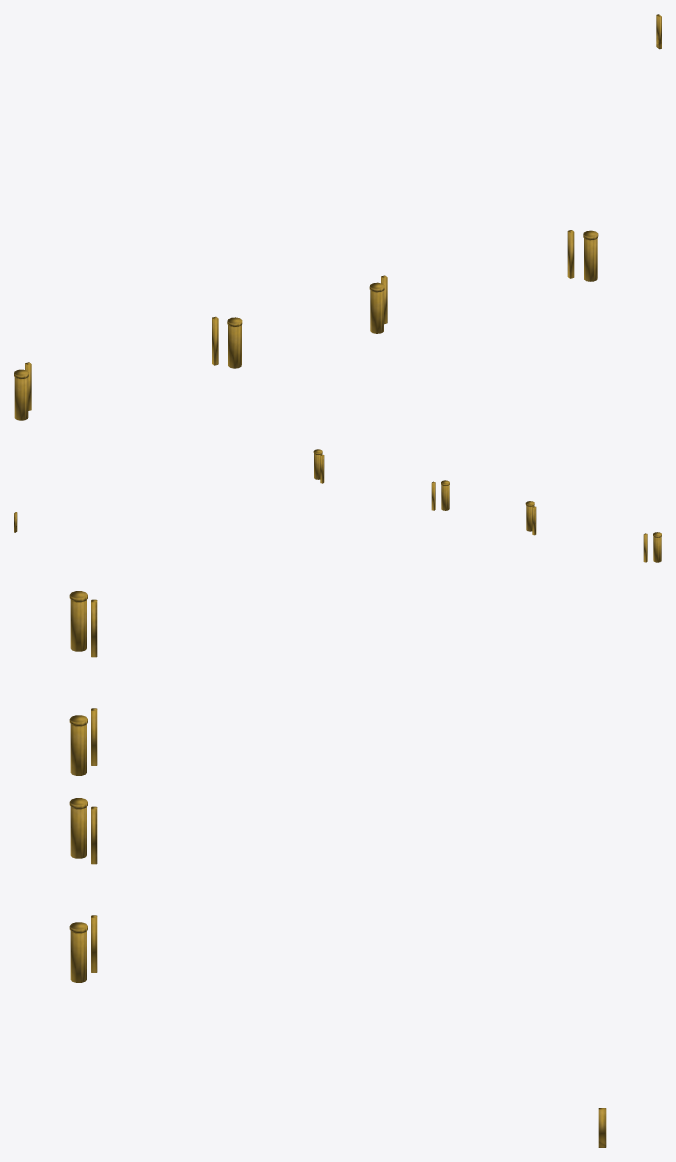
The model's file is Albatros_Seguridad.fbx.
3 views of the same model, one above another, from view 1: azimuth 30°, elevation 25°; view 2: azimuth 150°, elevation 25°; view 3: azimuth 270°, elevation 25° (orthographic). The views are drawn at different scales.
Parts seen in each view (by area): view 1: Albatros_Seguridad; view 2: Albatros_Seguridad; view 3: Albatros_Seguridad.
Boxes of the visible parts, left/top/right/bottom form: Albatros_Seguridad: left=14, top=14, right=661, bottom=420; Albatros_Seguridad: left=14, top=449, right=661, bottom=562; Albatros_Seguridad: left=69, top=591, right=606, bottom=1147.
Bounding box in the file's own units: 77.8 × 4 × 35.04.
